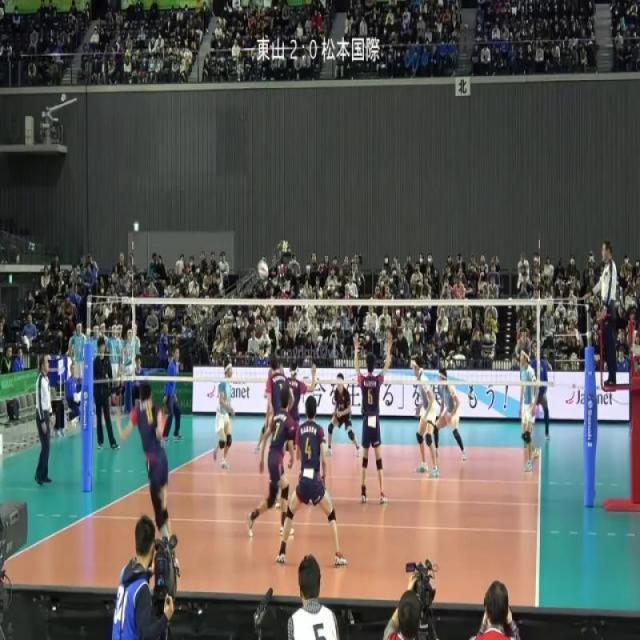volleyball: (257, 258, 269, 280)
